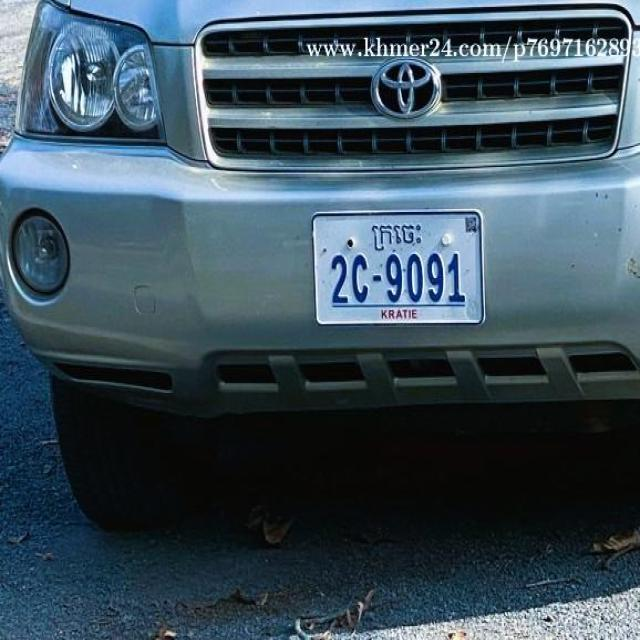Kratie: (371, 222, 422, 252)
